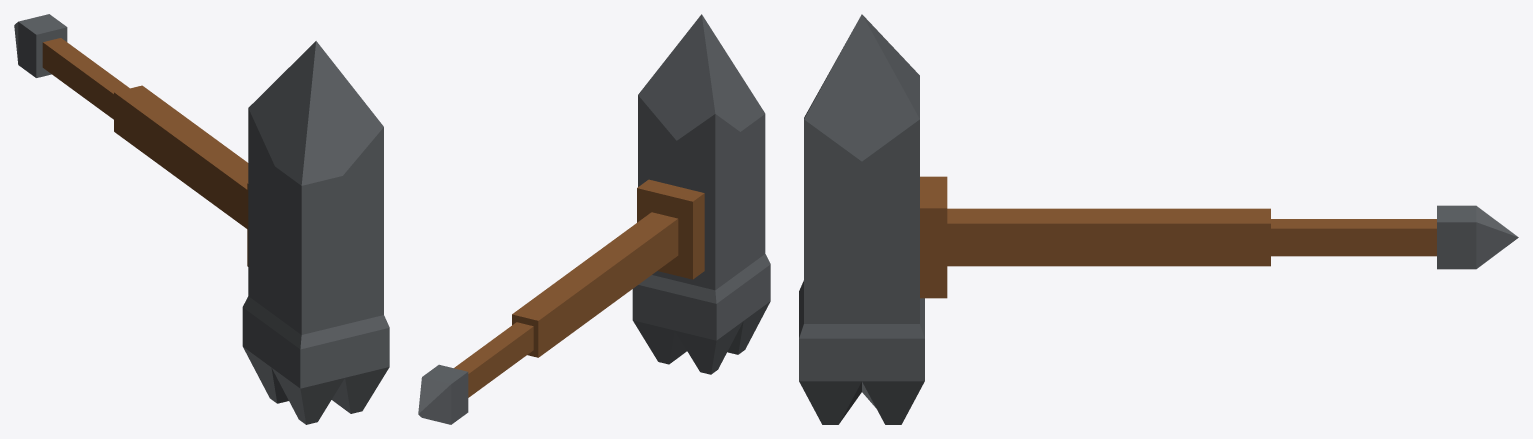
Rendered from Hammer.fbx.
3 views of the same model, side by side, from view 1: azimuth 30°, elevation 25°; view 2: azimuth 150°, elevation 25°; view 3: azimuth 270°, elevation 25° (orthographic). The views are drawn at different scales.
Parts seen in each view (by area): view 1: Hammer_Boss_Global_Metal_0, Hammer_Boss_Global_Wood_0; view 2: Hammer_Boss_Global_Metal_0, Hammer_Boss_Global_Wood_0; view 3: Hammer_Boss_Global_Metal_0, Hammer_Boss_Global_Wood_0.
Boxes of the visible parts, left/top/right/bottom form: Hammer_Boss_Global_Metal_0: left=14, top=14, right=389, bottom=424; Hammer_Boss_Global_Wood_0: left=42, top=38, right=248, bottom=266; Hammer_Boss_Global_Metal_0: left=418, top=14, right=770, bottom=424; Hammer_Boss_Global_Wood_0: left=454, top=179, right=704, bottom=397; Hammer_Boss_Global_Metal_0: left=799, top=14, right=1518, bottom=424; Hammer_Boss_Global_Wood_0: left=920, top=176, right=1436, bottom=298.
Bounding box in the file's own units: 607 × 2362 × 3891.
